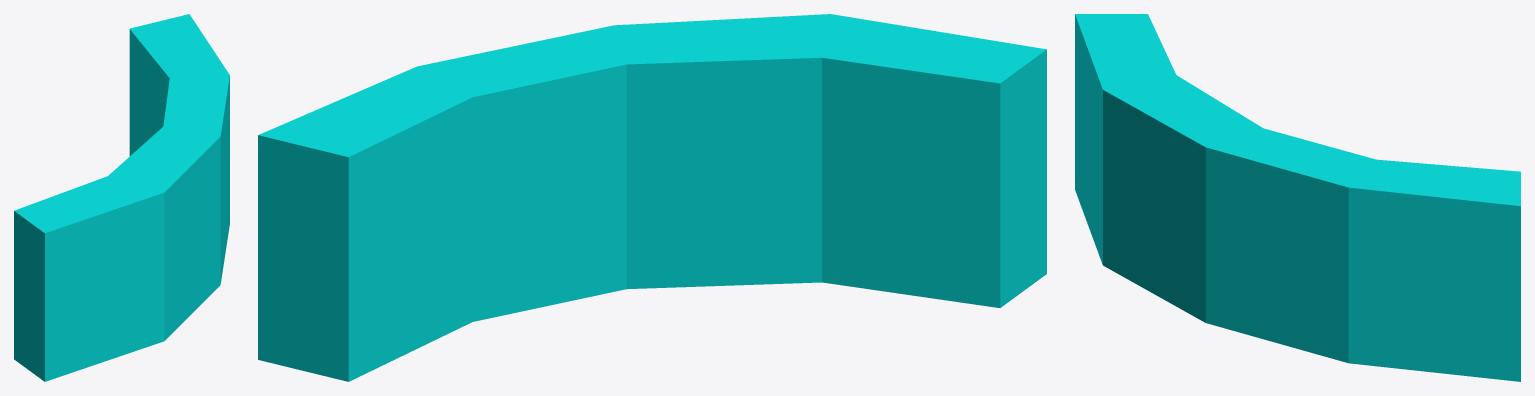
The model's file is SM_Bld_Battlements_Curve_02_Collision.fbx.
3 views of the same model, side by side, from view 1: azimuth 30°, elevation 25°; view 2: azimuth 150°, elevation 25°; view 3: azimuth 270°, elevation 25° (orthographic). The views are drawn at different scales.
Parts seen in each view (by area): view 1: SM_Bld_Battlements_Curve_02_Collision; view 2: SM_Bld_Battlements_Curve_02_Collision; view 3: SM_Bld_Battlements_Curve_02_Collision.
Part boxes in pixels (box(x1,y1,x2,y2)): SM_Bld_Battlements_Curve_02_Collision: box(14, 14, 229, 381); SM_Bld_Battlements_Curve_02_Collision: box(258, 14, 1046, 381); SM_Bld_Battlements_Curve_02_Collision: box(1075, 14, 1520, 381).
Bounding box in the file's own units: 327 × 140 × 321.
